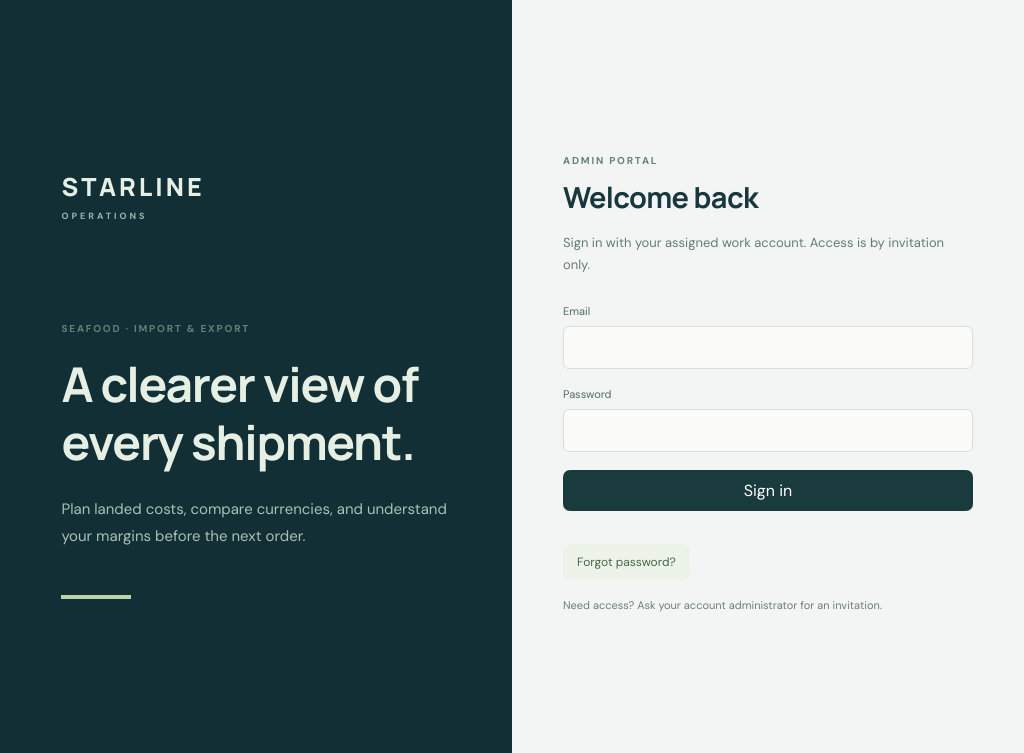
Scenario: valid login uses the server role and logout closes the dashboard
Expected: the button "Sign in" is shown, [563, 470, 973, 511]
In the field labelled "Email": x=768, y=347 [563, 326, 973, 369], type "ops@example.com"
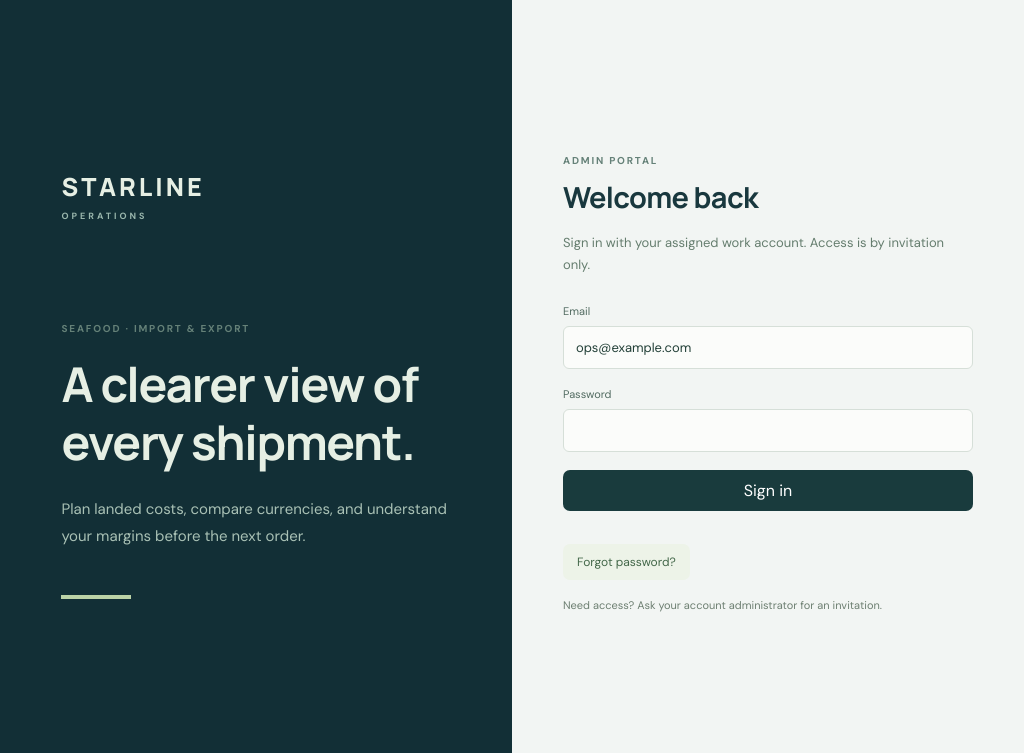
In the password field labelled "Password": x=768, y=430 [563, 409, 973, 452], type "example-password"
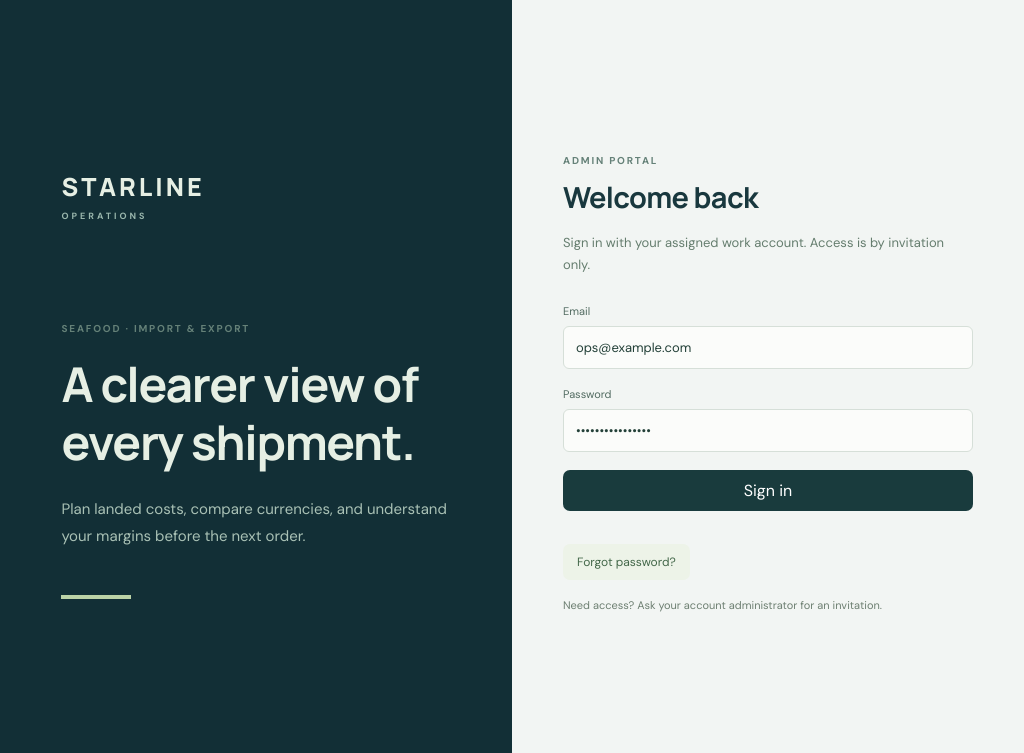
Click the button "Sign in": x=768, y=490 [563, 470, 973, 511]
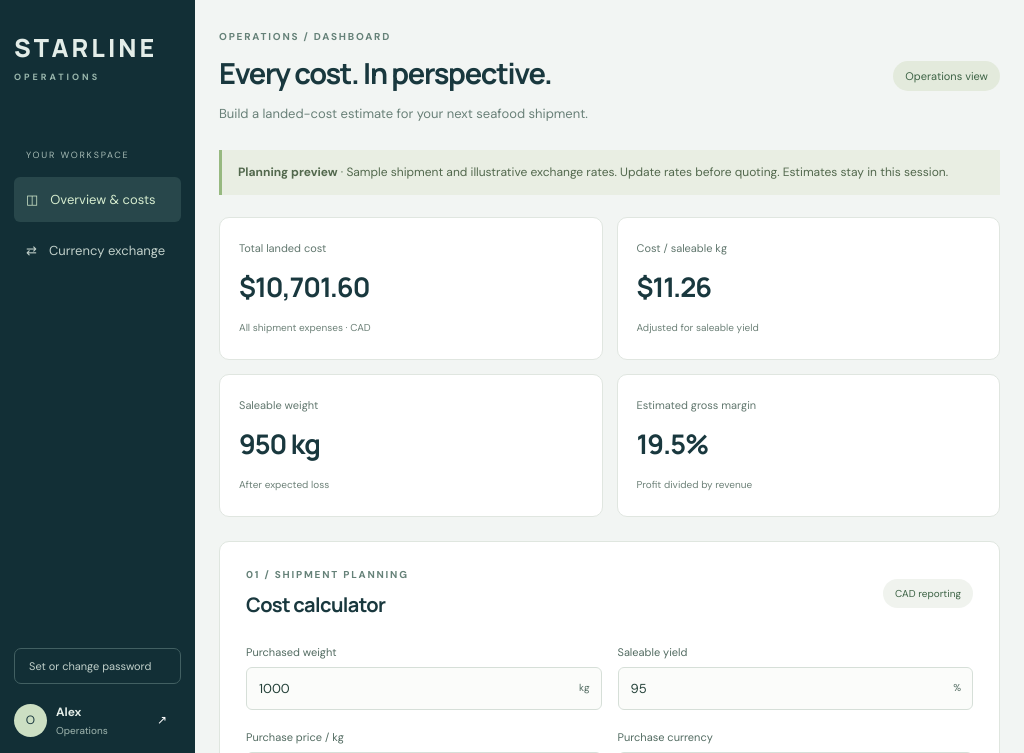
Expected: the text "Saleable weight" is shown, [239, 398, 318, 412]
Click the button named "Sign out": x=162, y=720 [143, 702, 181, 738]
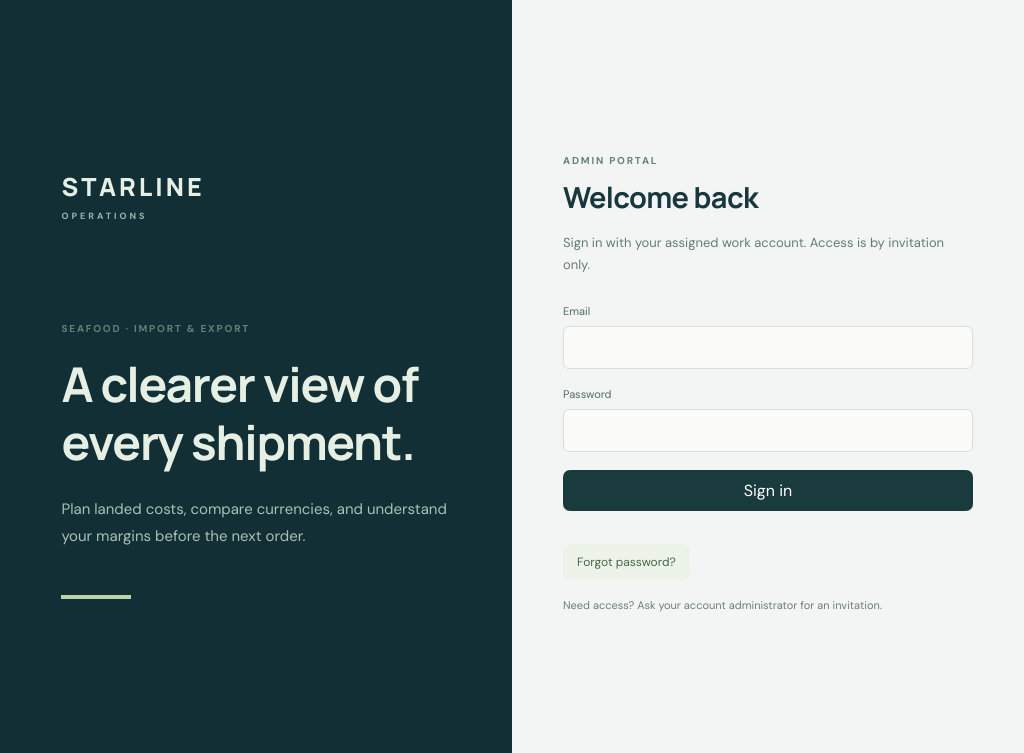
Expected: the button "Sign in" is shown, [563, 470, 973, 511]
